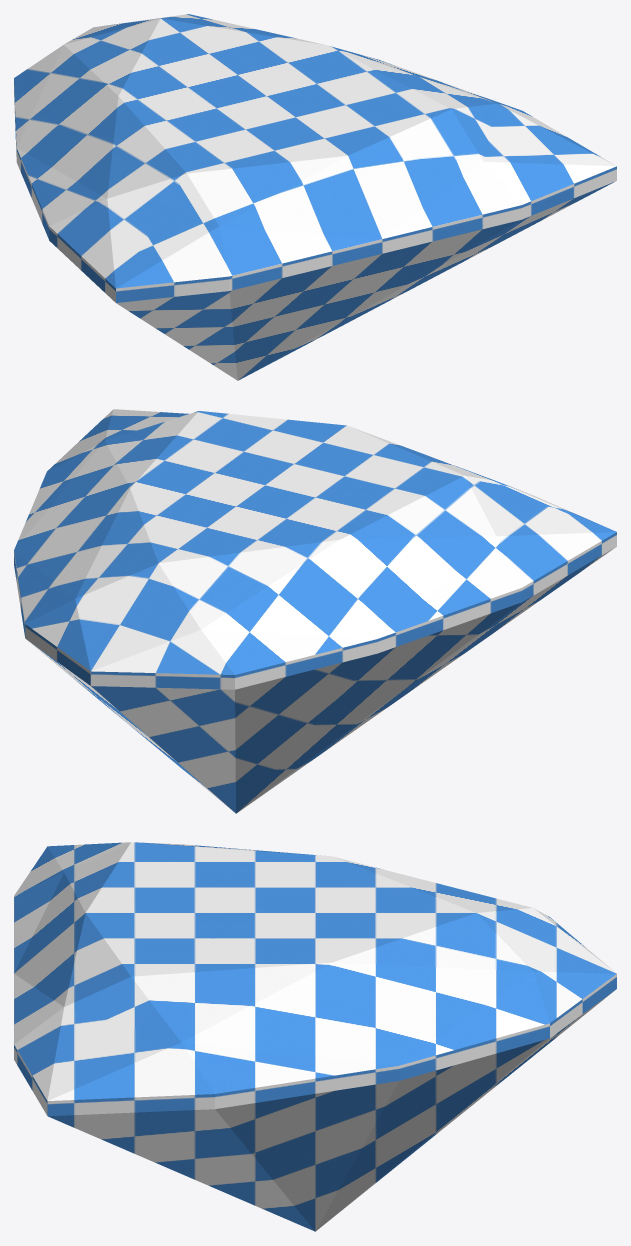
The model's file is TrillionCutPointy.FBX.
3 views of the same model, one above another, from view 1: azimuth 30°, elevation 25°; view 2: azimuth 150°, elevation 25°; view 3: azimuth 270°, elevation 25° (orthographic). The views are drawn at different scales.
Parts seen in each view (by area): view 1: TrillionCutPointy; view 2: TrillionCutPointy; view 3: TrillionCutPointy.
Part boxes in pixels (box(x1,y1,x2,y2)): TrillionCutPointy: box(14, 14, 616, 380); TrillionCutPointy: box(14, 409, 616, 813); TrillionCutPointy: box(14, 842, 616, 1231).
Bounding box in the file's own units: 1.14 × 0.6667 × 1.14.
